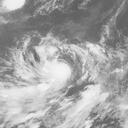cyclone: (28, 53, 72, 92)
